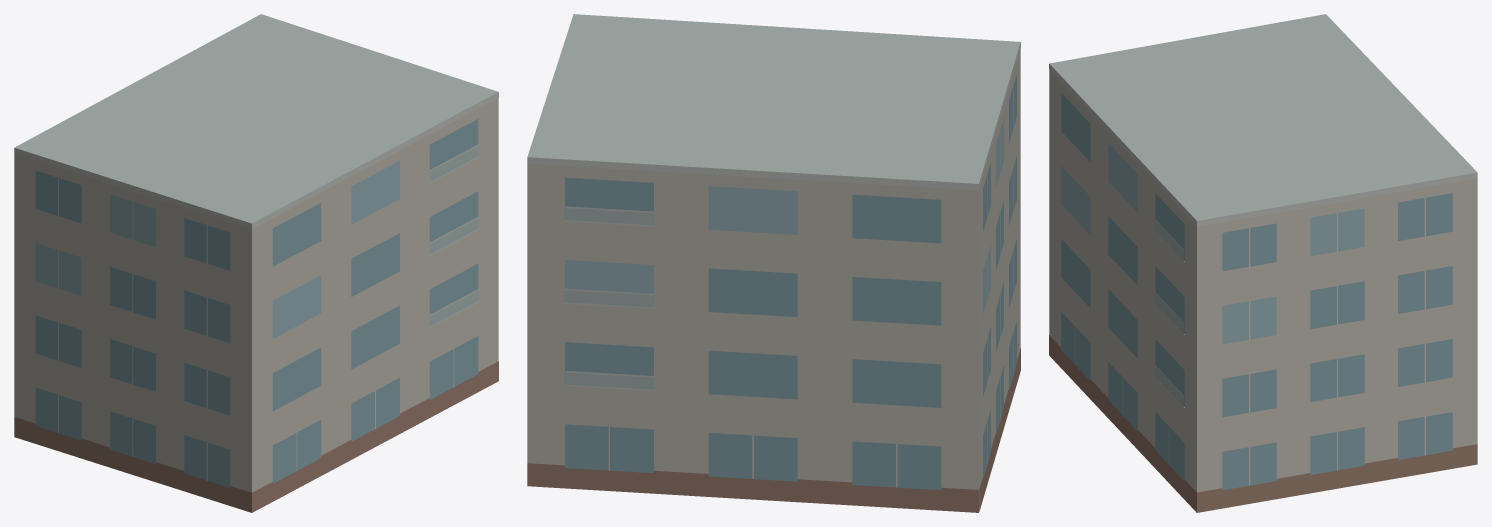
Rendered from survey-upis-32881920.glb.
3 views of the same model, side by side, from view 1: azimuth 30°, elevation 25°; view 2: azimuth 150°, elevation 25°; view 3: azimuth 270°, elevation 25° (orthographic). The views are drawn at different scales.
Visible parts, largest first — view 1: survey-upis-32881920.tmp; view 2: survey-upis-32881920.tmp; view 3: survey-upis-32881920.tmp.
Part boxes in pixels (x1=…): survey-upis-32881920.tmp: x1=14, y1=14, x2=498, y2=512; survey-upis-32881920.tmp: x1=527, y1=14, x2=1020, y2=512; survey-upis-32881920.tmp: x1=1049, y1=14, x2=1477, y2=512.
Size of the model in its own units: 18.64 by 12.25 by 16.31.
